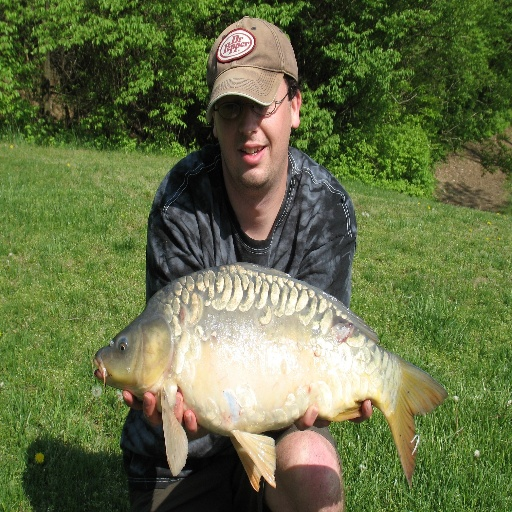hand: (121, 390, 195, 435), (294, 398, 373, 430)
